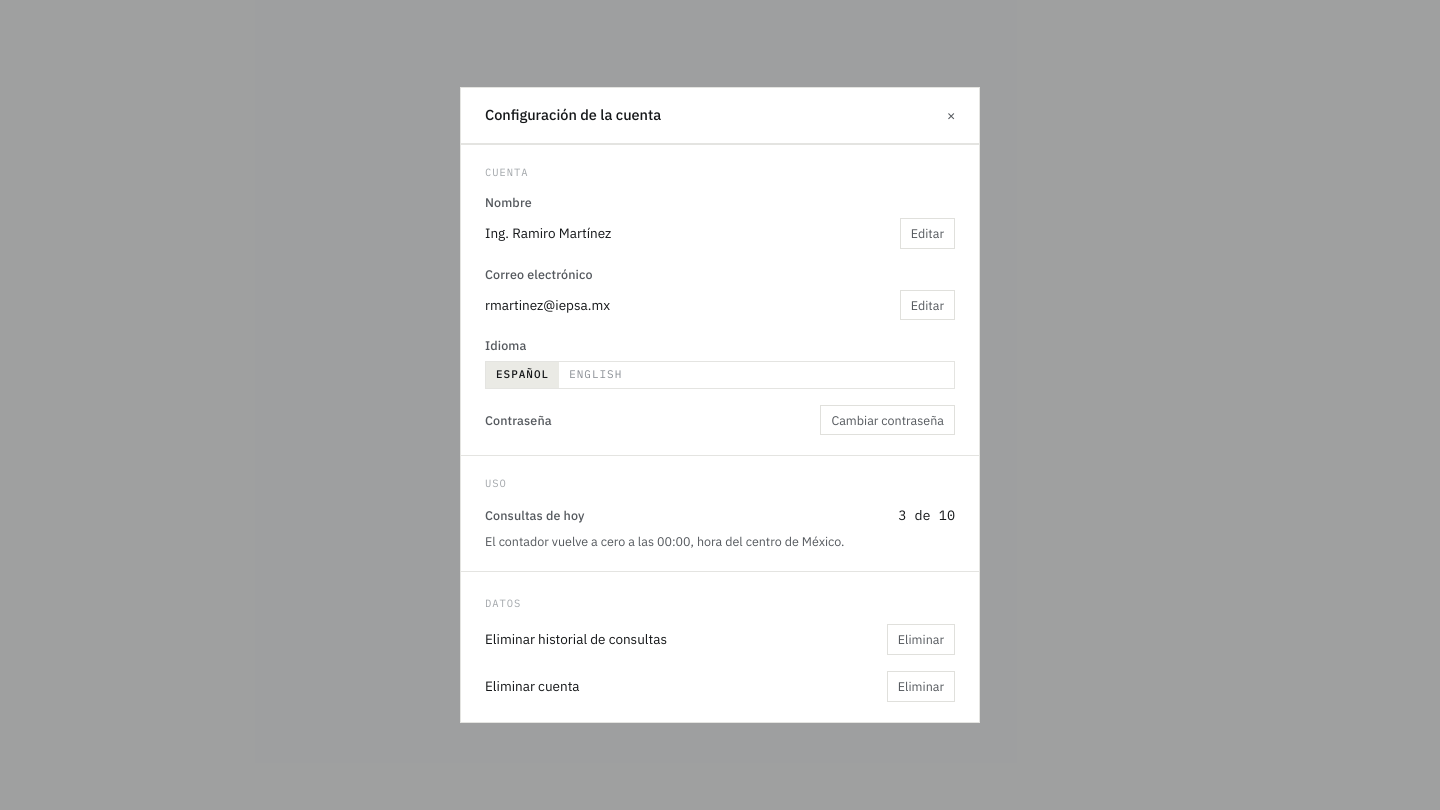
Scenario: typed confirmation gate on account deletion › states what is lost before asking for the word
Click the button "Eliminar" in the row of "Eliminar cuenta" at (921, 686), box [887, 671, 955, 702]
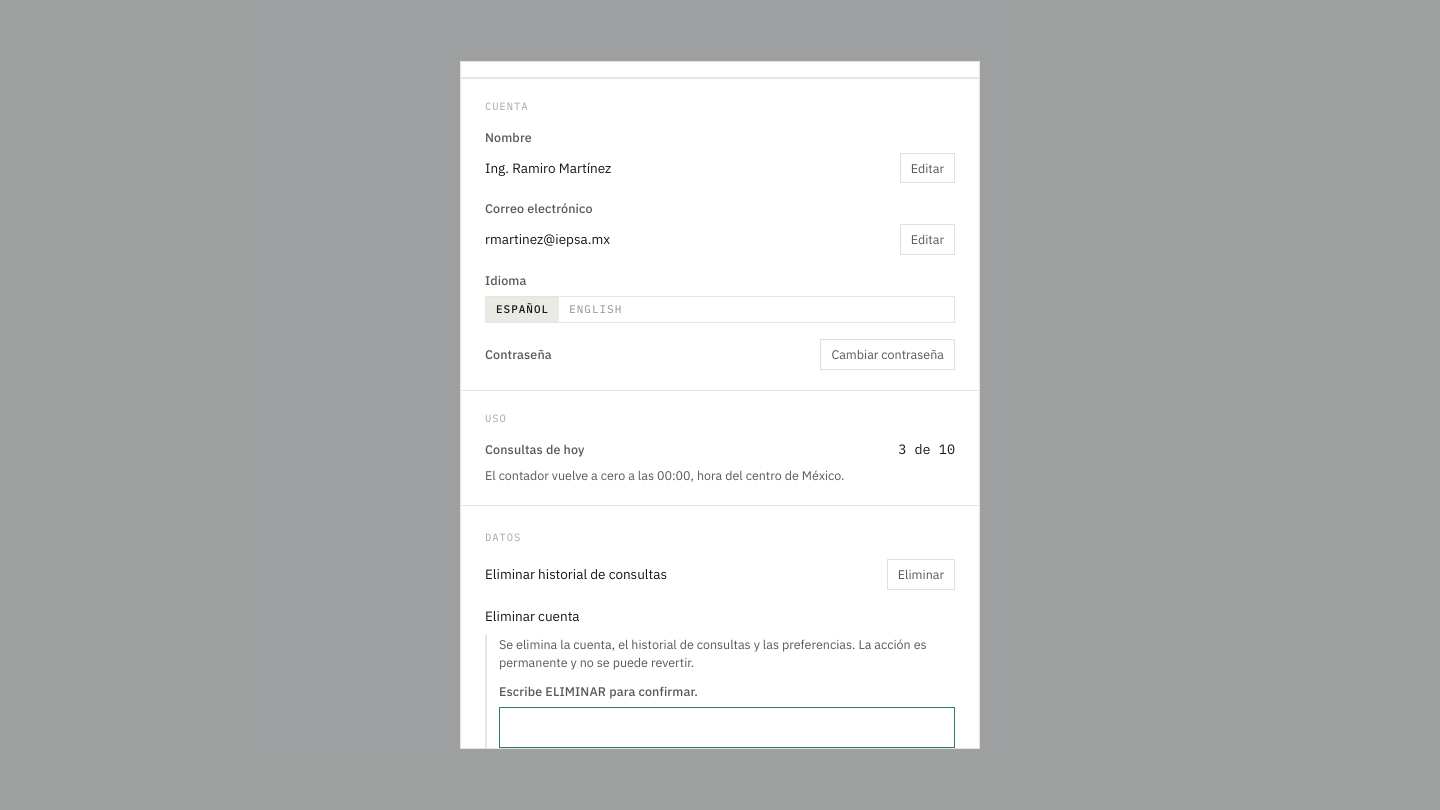
expect the text "Se elimina la cuenta, el historial de consultas y las preferencias" is shown: met, box [499, 636, 927, 670]
